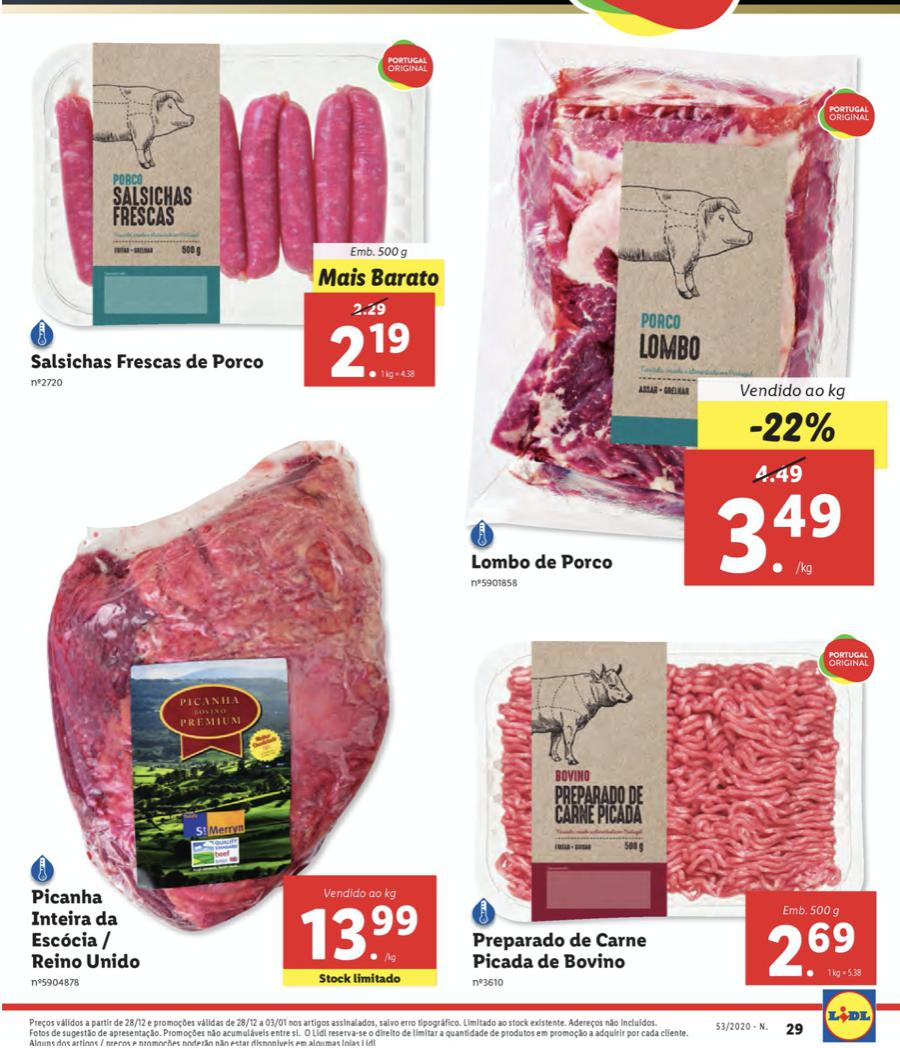name: (18, 882, 151, 976), (460, 928, 656, 971), (31, 343, 269, 377), (456, 542, 620, 576)
price: (711, 489, 855, 584), (756, 893, 870, 991), (304, 897, 422, 971), (325, 317, 425, 385)
product: (4, 425, 456, 993), (470, 34, 882, 602), (456, 602, 882, 993), (13, 32, 453, 410)
